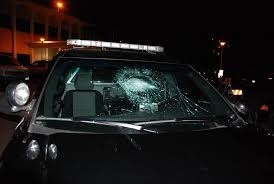Broken-glass: (111, 67, 187, 115)
